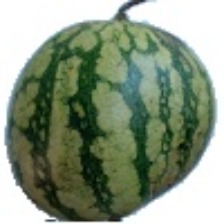watermelon: (46, 60, 219, 200)
